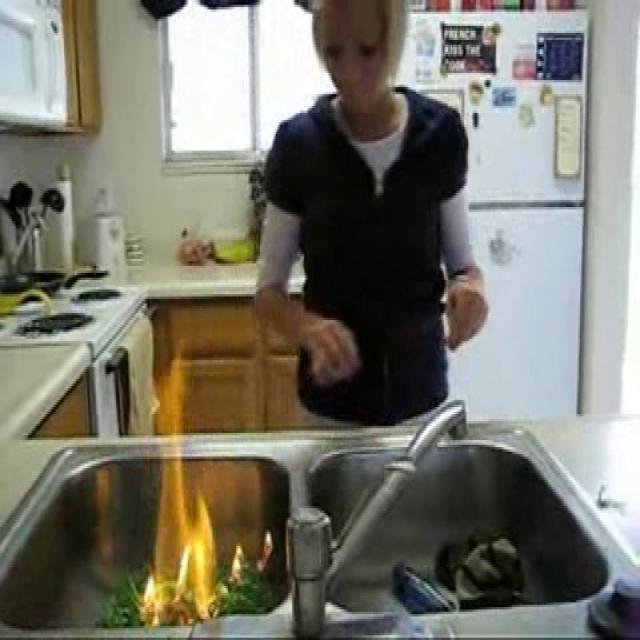Fire: (140, 352, 226, 630)
